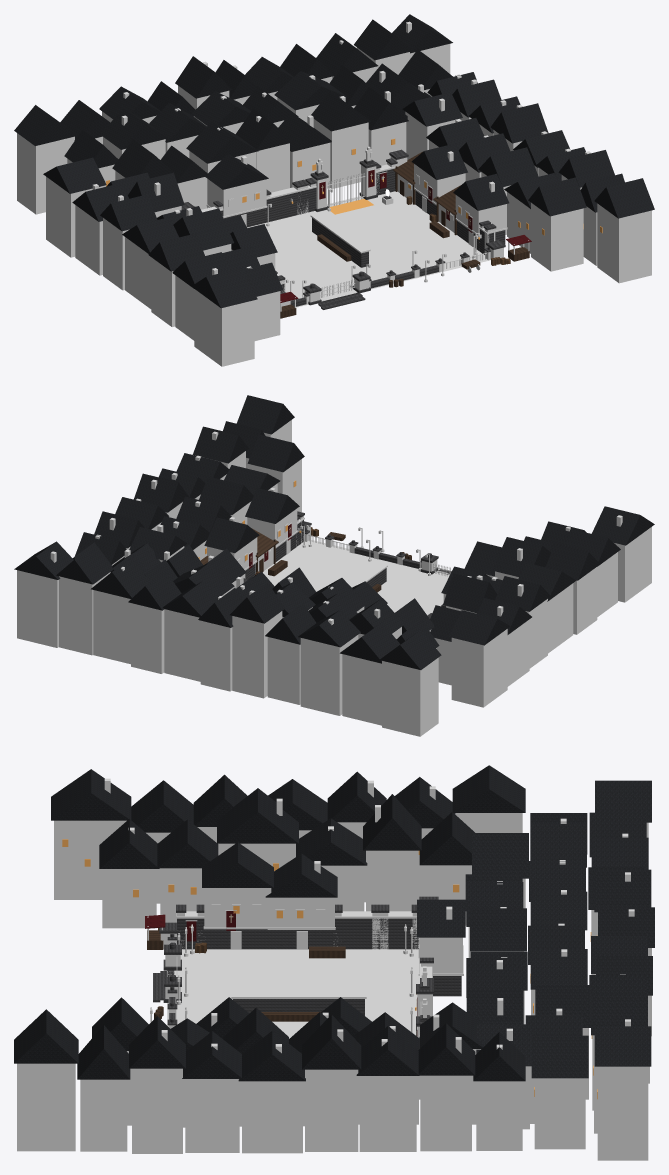
File: town_stables_04.fbx
3 views of the same model, one above another, from view 1: azimuth 30°, elevation 25°; view 2: azimuth 150°, elevation 25°; view 3: azimuth 270°, elevation 25° (orthographic). The views are drawn at different scales.
Visible parts, largest first — view 1: _MeshInstance3D_2594, _MeshInstance3D_2931, _MeshInstance3D_3056, _MeshInstance3D_3020, _MeshInstance3D_2704, _MeshInstance3D_2656, _MeshInstance3D_2909, _MeshInstance3D_2932, _MeshInstance3D_2646, _MeshInstance3D_3057, _MeshInstance3D_2898, _MeshInstance3D_2912 (+73 smaller); view 2: _MeshInstance3D_2594, _MeshInstance3D_2704, _MeshInstance3D_2909, _MeshInstance3D_2709, _MeshInstance3D_2738, _MeshInstance3D_2715, _MeshInstance3D_2735, _MeshInstance3D_2706, _MeshInstance3D_2730, _MeshInstance3D_2723, _MeshInstance3D_2727, _MeshInstance3D_2719 (+60 smaller); view 3: _MeshInstance3D_2594, _MeshInstance3D_3056, _MeshInstance3D_2738, _MeshInstance3D_3036, _MeshInstance3D_3041, _MeshInstance3D_3033, _MeshInstance3D_3049, _MeshInstance3D_3045, _MeshInstance3D_2931, _MeshInstance3D_3028, _MeshInstance3D_2701, _MeshInstance3D_3053 (+78 smaller).
Boxes of the visible parts, box(x1,y1,x2,y2) form: _MeshInstance3D_2594: box(247, 191, 490, 307); _MeshInstance3D_2931: box(194, 289, 254, 366); _MeshInstance3D_3056: box(597, 203, 651, 283); _MeshInstance3D_3020: box(531, 202, 583, 271); _MeshInstance3D_2704: box(17, 133, 74, 214); _MeshInstance3D_2656: box(313, 119, 368, 188); _MeshInstance3D_2909: box(46, 176, 103, 257); _MeshInstance3D_2932: box(191, 268, 257, 308); _MeshInstance3D_2646: box(186, 121, 258, 163); _MeshInstance3D_3057: box(594, 178, 654, 218); _MeshInstance3D_2898: box(173, 208, 233, 250); _MeshInstance3D_2912: box(75, 205, 102, 275); _MeshInstance3D_2594: box(263, 540, 449, 615); _MeshInstance3D_2704: box(382, 657, 438, 736); _MeshInstance3D_2909: box(451, 629, 507, 707); _MeshInstance3D_2709: box(300, 635, 358, 715); _MeshInstance3D_2738: box(17, 570, 58, 647); _MeshInstance3D_2715: box(232, 611, 282, 698); _MeshInstance3D_2735: box(59, 572, 110, 655); _MeshInstance3D_2706: box(342, 654, 381, 725); _MeshInstance3D_2730: box(93, 590, 130, 664); _MeshInstance3D_2723: box(164, 609, 200, 681); _MeshInstance3D_2727: box(131, 603, 164, 673); _MeshInstance3D_2719: box(200, 620, 232, 691); _MeshInstance3D_2594: box(167, 949, 419, 1038); _MeshInstance3D_3056: box(17, 1063, 75, 1151); _MeshInstance3D_2738: box(597, 1066, 648, 1160); _MeshInstance3D_3036: box(305, 1069, 358, 1151); _MeshInstance3D_3041: box(242, 1081, 302, 1153); _MeshInstance3D_3033: box(359, 1076, 416, 1151); _MeshInstance3D_3049: box(132, 1068, 182, 1153); _MeshInstance3D_3045: box(185, 1079, 239, 1152); _MeshInstance3D_2931: box(54, 820, 126, 899); _MeshInstance3D_3028: box(420, 1075, 471, 1151); _MeshInstance3D_2701: box(534, 1078, 585, 1149); _MeshInstance3D_3053: box(80, 1079, 127, 1151).
Size of what is drawn, in the model's own units: 6656 by 1532 by 6307.
Materials: 17 (5 with a texture image).
